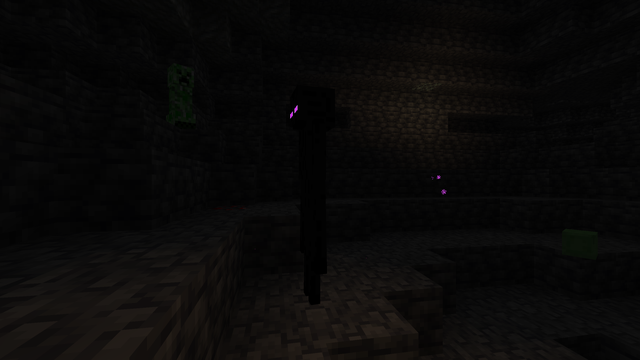creepers: (164, 60, 195, 130)
endermens: (288, 76, 337, 309)
slimes: (556, 228, 603, 258)
